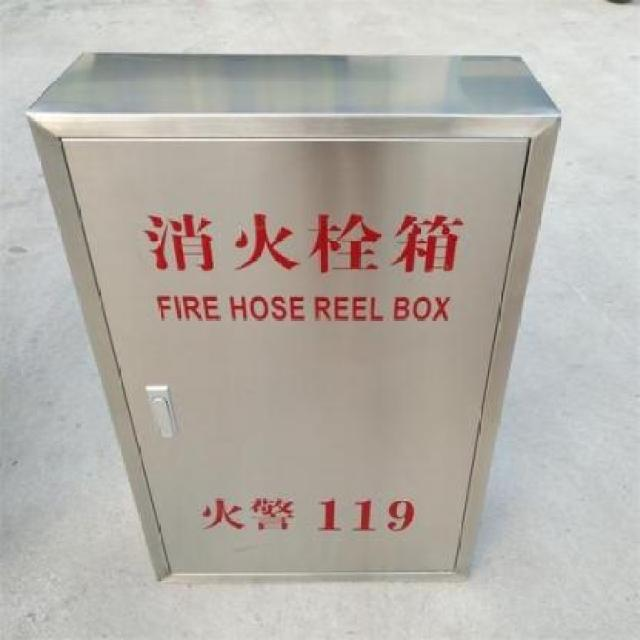firehydrant: (21, 48, 568, 594)
